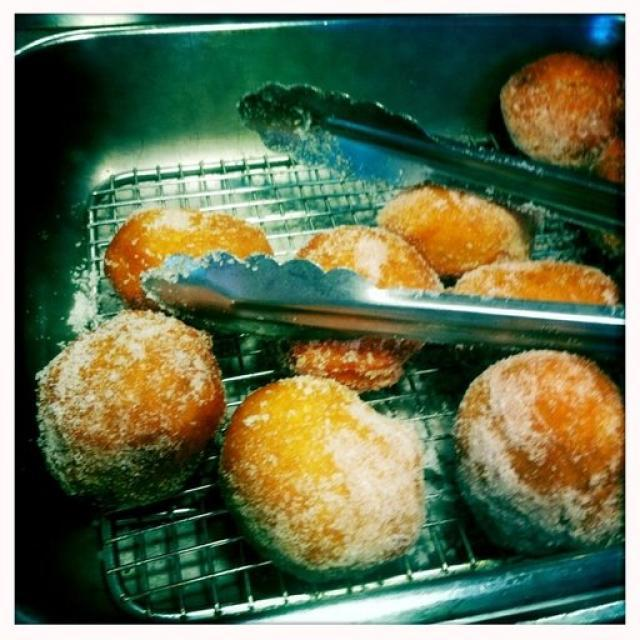Donuts: (54, 59, 640, 583)
